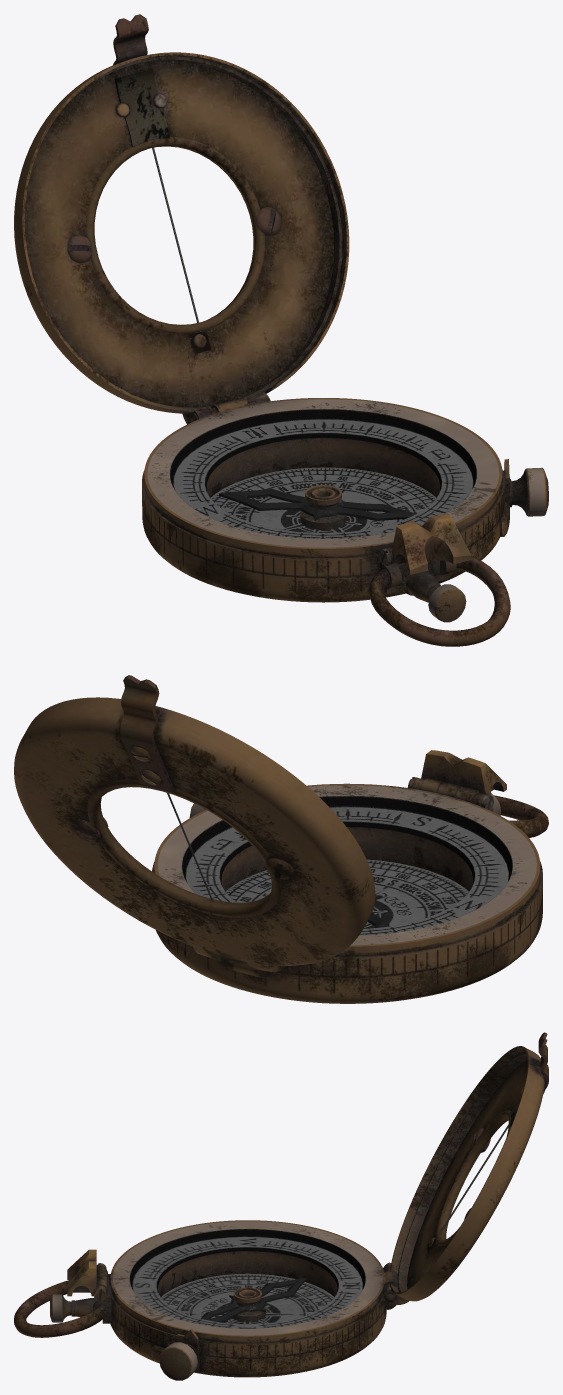
File: compass.glb
3 views of the same model, one above another, from view 1: azimuth 30°, elevation 25°; view 2: azimuth 150°, elevation 25°; view 3: azimuth 270°, elevation 25° (orthographic). The views are drawn at different scales.
Parts seen in each view (by area): view 1: seadogs_compass_lid, seadogs_compass, seadogs_compass_needle; view 2: seadogs_compass_lid, seadogs_compass; view 3: seadogs_compass, seadogs_compass_lid, seadogs_compass_needle.
Part boxes in pixels (<box>): seadogs_compass_lid: <box>14,14,349,424</box>; seadogs_compass: <box>142,398,548,646</box>; seadogs_compass_needle: <box>219,488,415,520</box>; seadogs_compass_lid: <box>14,675,375,972</box>; seadogs_compass: <box>152,750,548,1003</box>; seadogs_compass: <box>14,1220,397,1380</box>; seadogs_compass_lid: <box>382,1032,548,1305</box>; seadogs_compass_needle: <box>201,1278,306,1322</box>.
Bounding box in the file's own units: 0.0813 × 0.0866 × 0.1441.
Materials: 1 (1 with a texture image).
